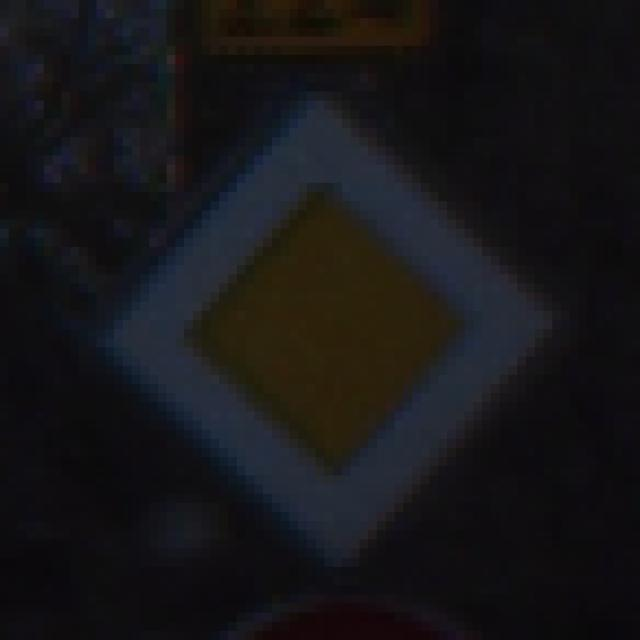Main Road: (54, 56, 589, 586)
